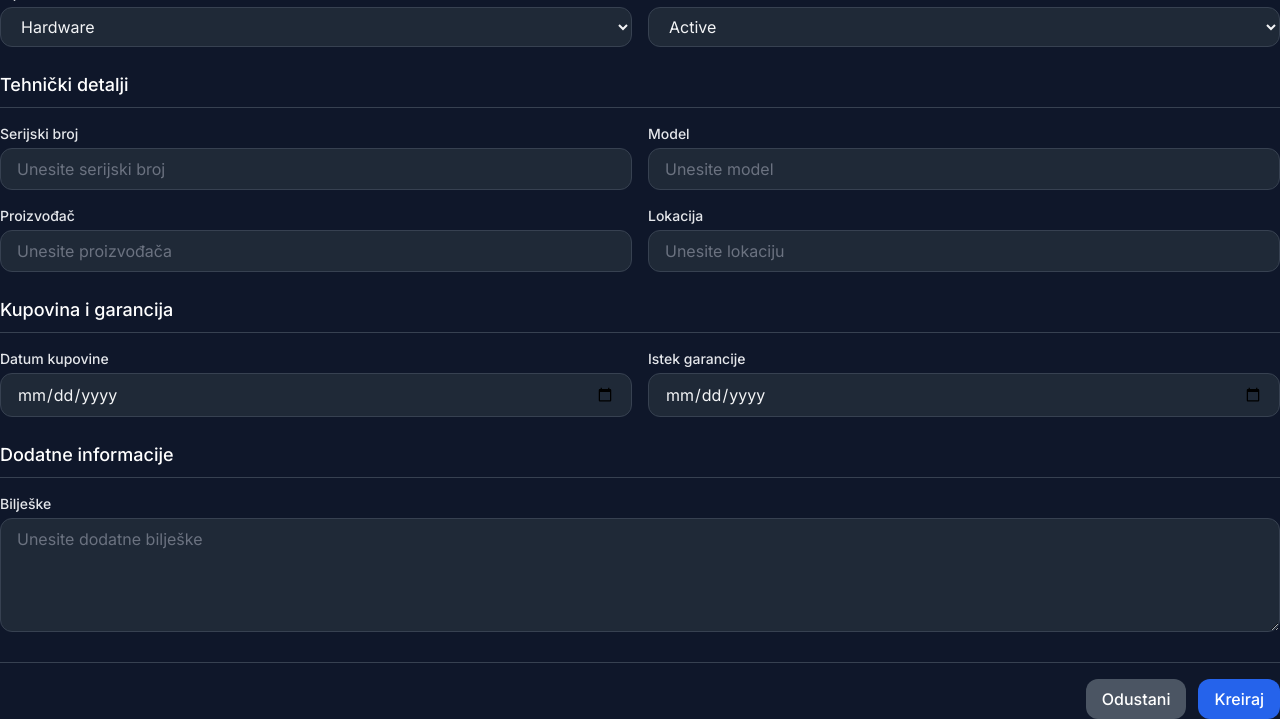
Scenario: AssetForm › validates Croatian error messages
(page scrolled)
Try to submit without name
Click the button "Kreiraj".
click(1239, 699)  # box [1198, 679, 1279, 718]
(page scrolled)
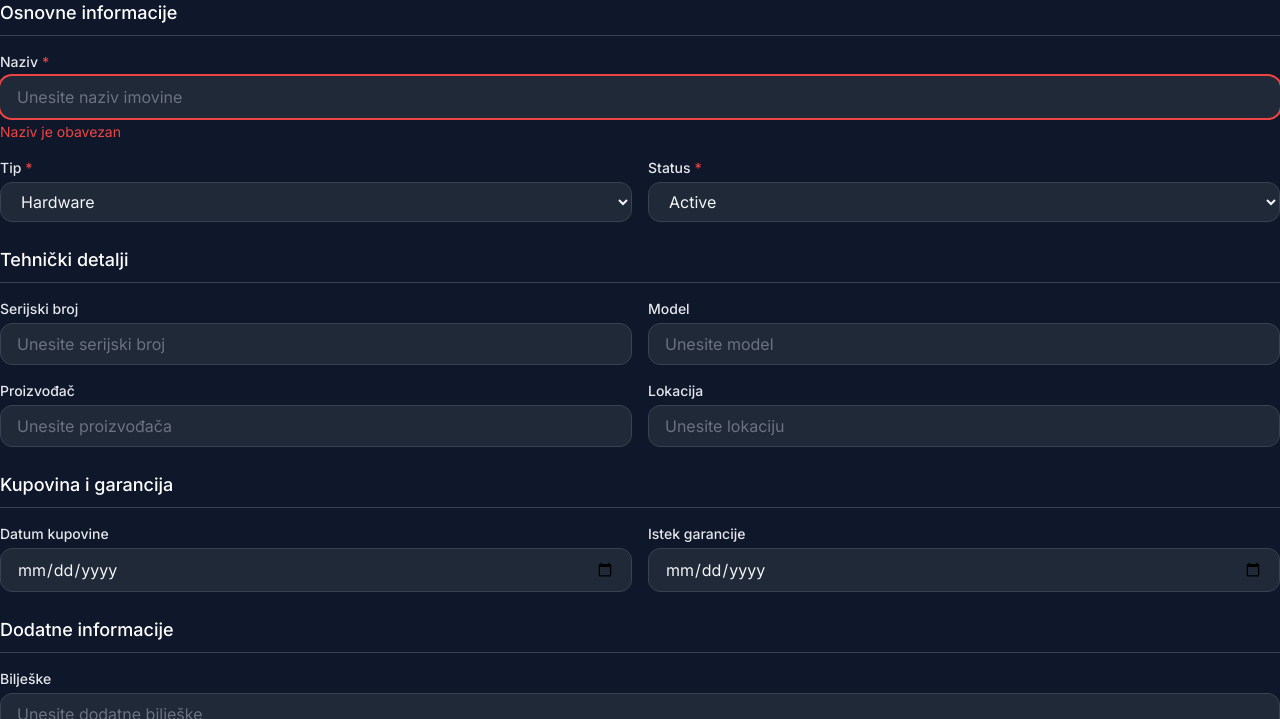
Expected: the text "Naziv je obavezan" is shown, [0, 123, 121, 140]
